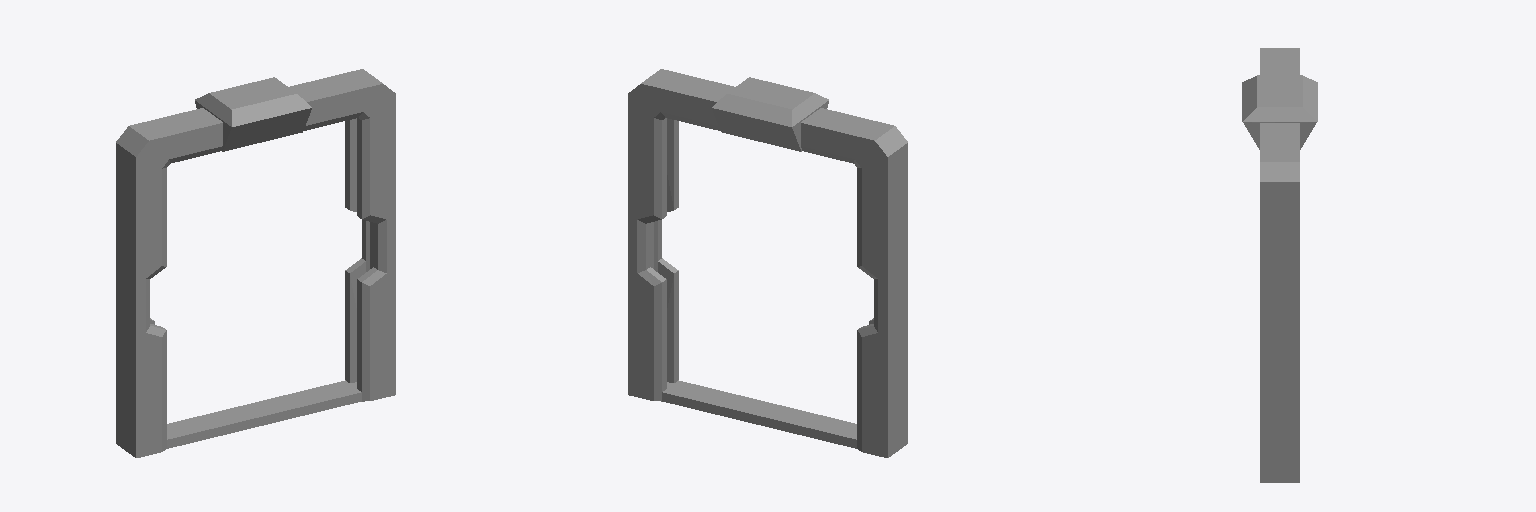
Rendered from doorframe.obj.
3 renders of one model, left to right at view 1: azimuth 30°, elevation 25°; view 2: azimuth 150°, elevation 25°; view 3: azimuth 270°, elevation 25°, orthographic.
Parts seen in each view (by area): view 1: door_c_frame; view 2: door_c_frame; view 3: door_c_frame.
Part boxes in pixels (left/top/right/bottom): door_c_frame: left=116, top=69, right=395, bottom=457; door_c_frame: left=628, top=69, right=907, bottom=457; door_c_frame: left=1242, top=48, right=1317, bottom=482.
Size of the model in its own units: 2.5 by 3 by 0.625.